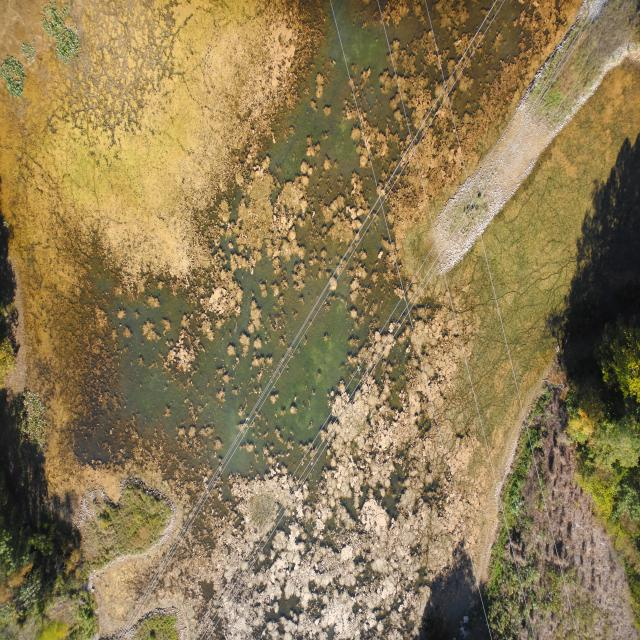Area of Interest: (572, 321, 634, 544)
